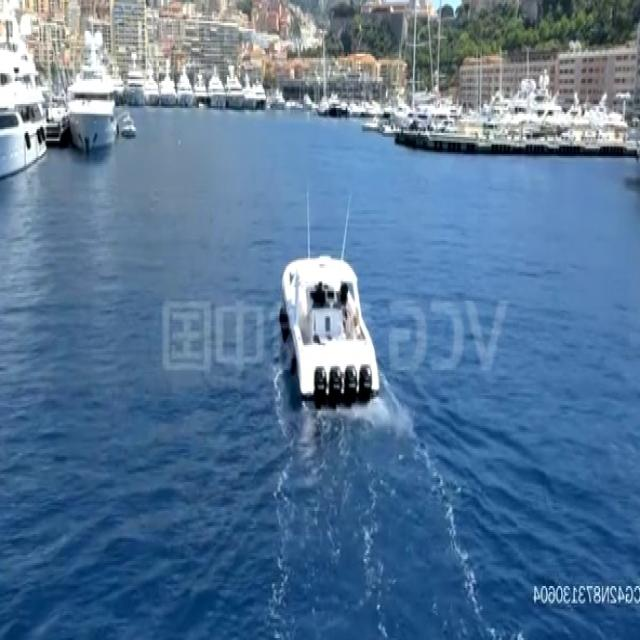houseboat: (279, 248, 378, 400)
